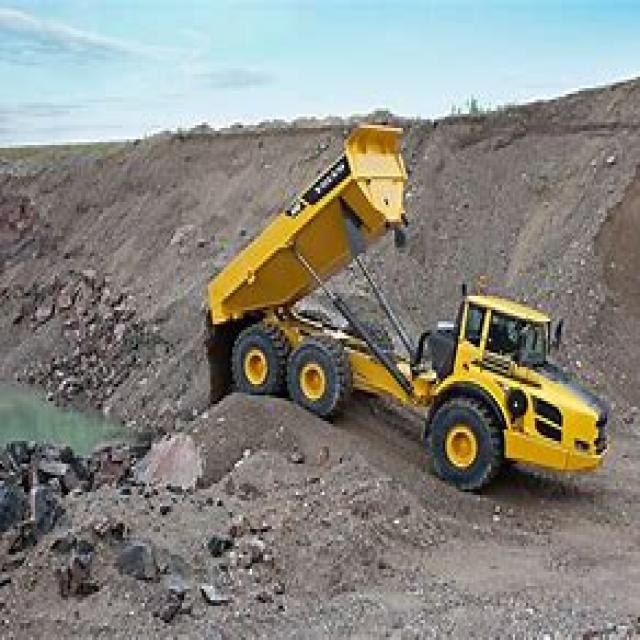dump_truck: (204, 114, 609, 498)
